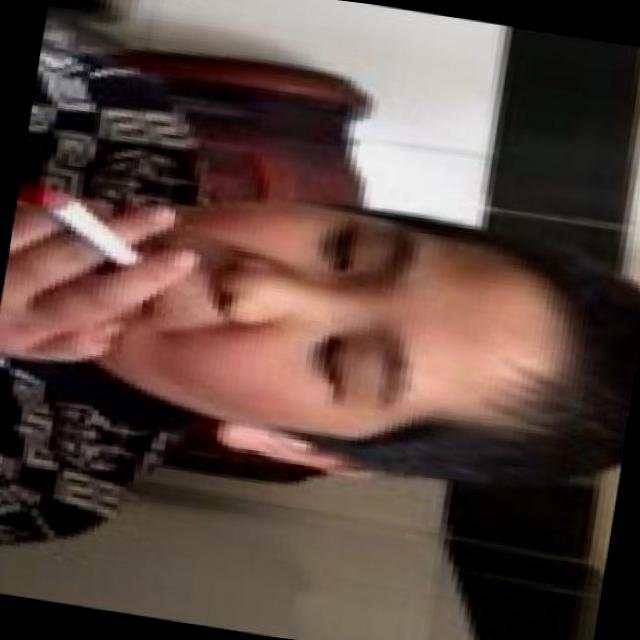cigarette: (0, 165, 197, 384)
